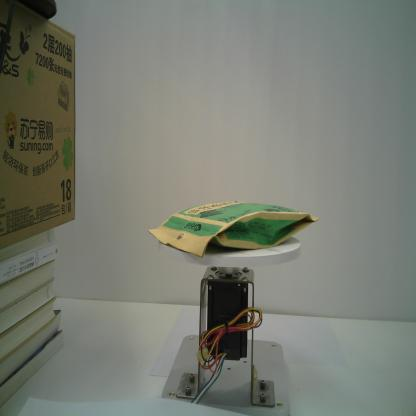Dried Food: (145, 197, 319, 258)
